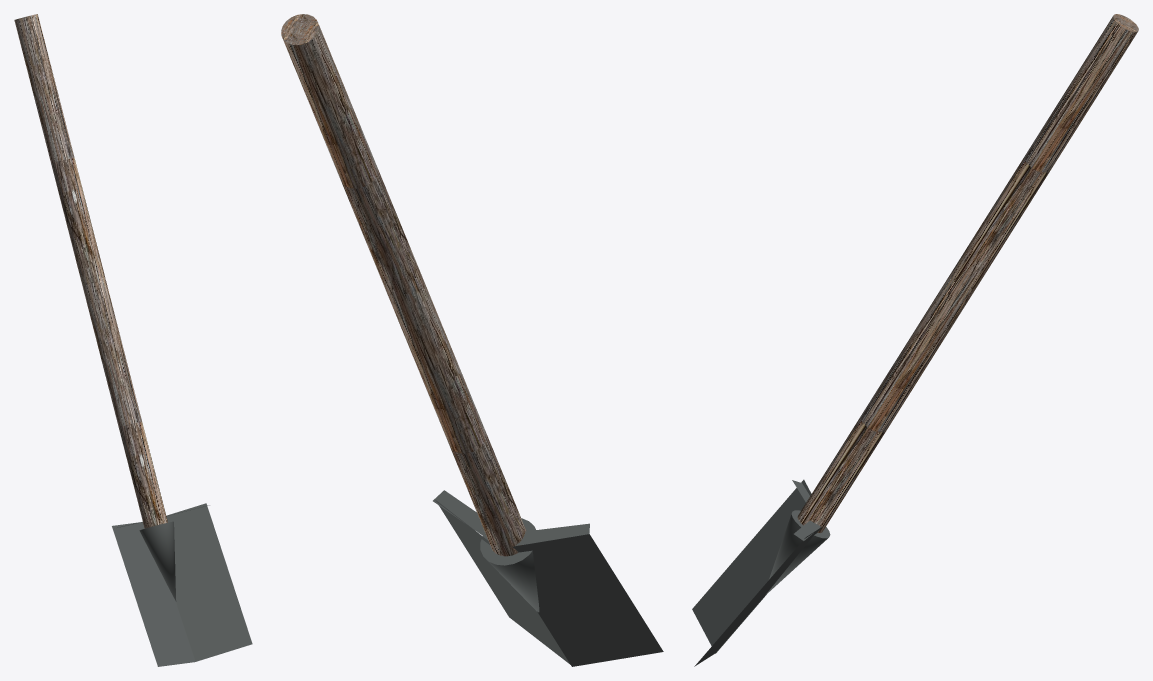
Rendered from shovel.fbx.
3 renders of one model, left to right at view 1: azimuth 30°, elevation 25°; view 2: azimuth 150°, elevation 25°; view 3: azimuth 270°, elevation 25°, orthographic. The views are drawn at different scales.
Visible parts, largest first — view 1: pasted__pPlane3; view 2: pasted__pPlane3; view 3: pasted__pPlane3.
Boxes of the visible parts, left/top/right/bottom form: pasted__pPlane3: left=14, top=14, right=252, bottom=666; pasted__pPlane3: left=281, top=14, right=663, bottom=666; pasted__pPlane3: left=692, top=14, right=1138, bottom=666.
Size of the model in its own units: 1.98 by 10.19 by 6.48.
